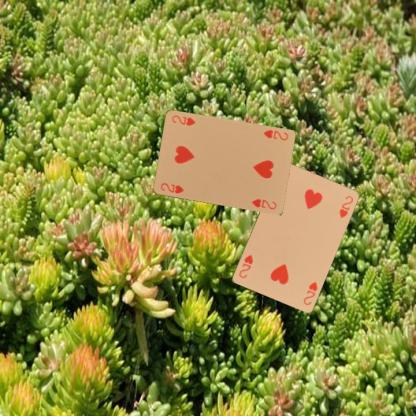2h: (300, 279, 318, 306), (260, 127, 289, 142), (158, 180, 185, 196)
